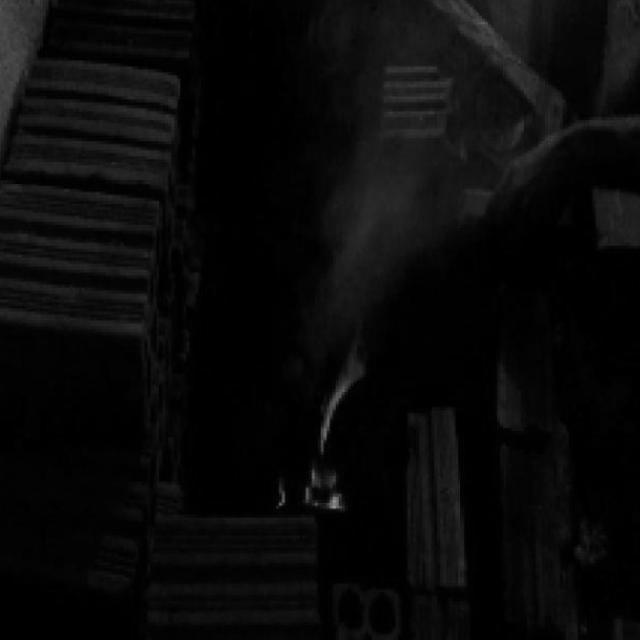fire: (308, 0, 490, 337)
smoke: (316, 343, 370, 454), (302, 464, 347, 513)
